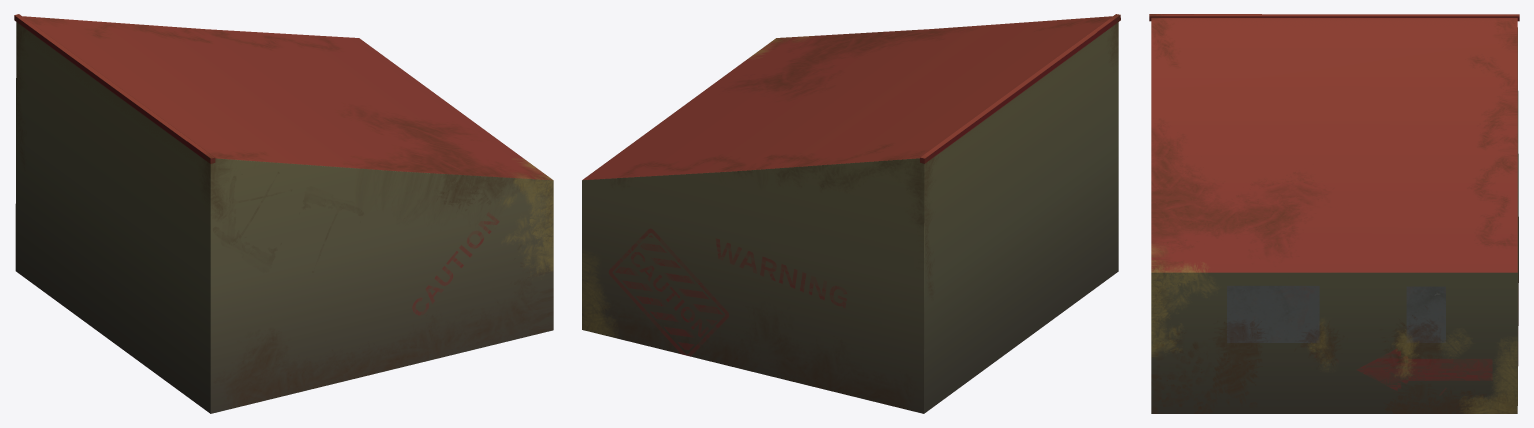
Rendered from Build3.glb.
3 views of the same model, side by side, from view 1: azimuth 30°, elevation 25°; view 2: azimuth 150°, elevation 25°; view 3: azimuth 270°, elevation 25° (orthographic). The views are drawn at different scales.
Visible parts, largest first — view 1: barrack04; view 2: barrack04; view 3: barrack04.
Part boxes in pixels (x1,y1,x2,y2): barrack04: (14, 14, 553, 413); barrack04: (582, 14, 1120, 413); barrack04: (1149, 14, 1519, 413).
Size of the model in its own units: 6.69 by 4.76 by 6.61.
Materials: 1 (1 with a texture image).
